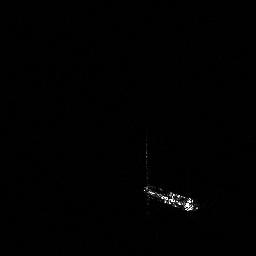ship: (139, 180, 202, 216)
